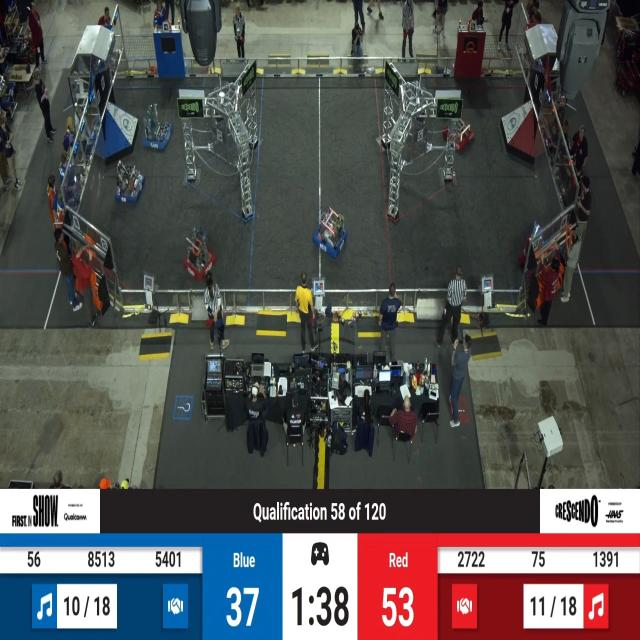Robot: (519, 218, 559, 288), (182, 225, 216, 282), (316, 204, 350, 261), (443, 98, 475, 155), (144, 101, 174, 152), (114, 161, 144, 208)
